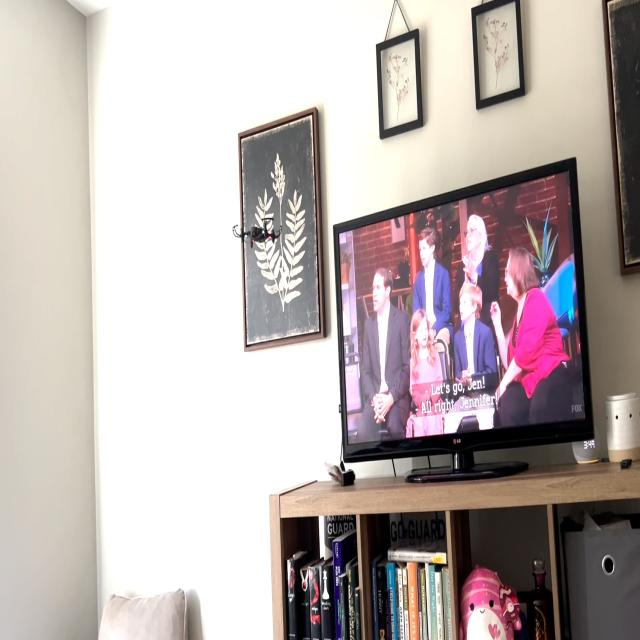drone: (225, 202, 301, 266)
